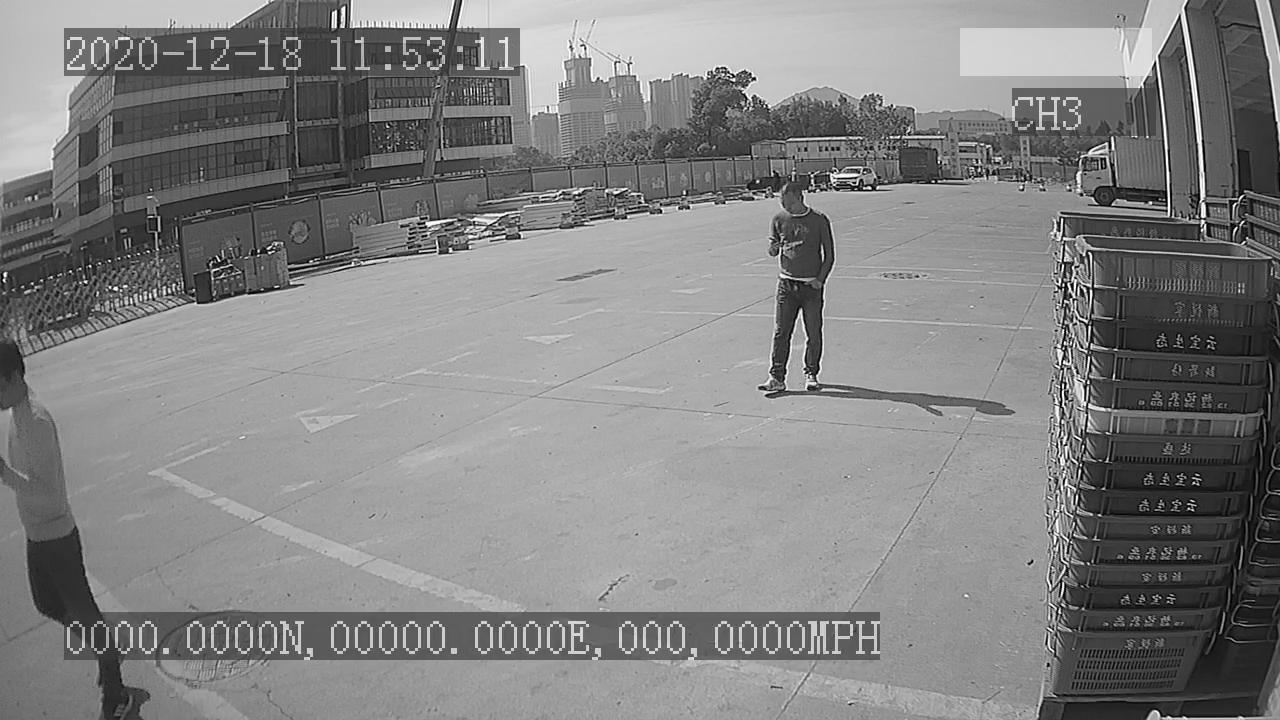person: (749, 176, 840, 406)
